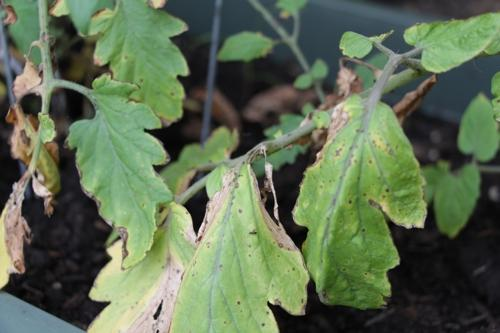Tomato Early blight leaf: (292, 96, 427, 311), (165, 157, 312, 333), (67, 68, 177, 273)
